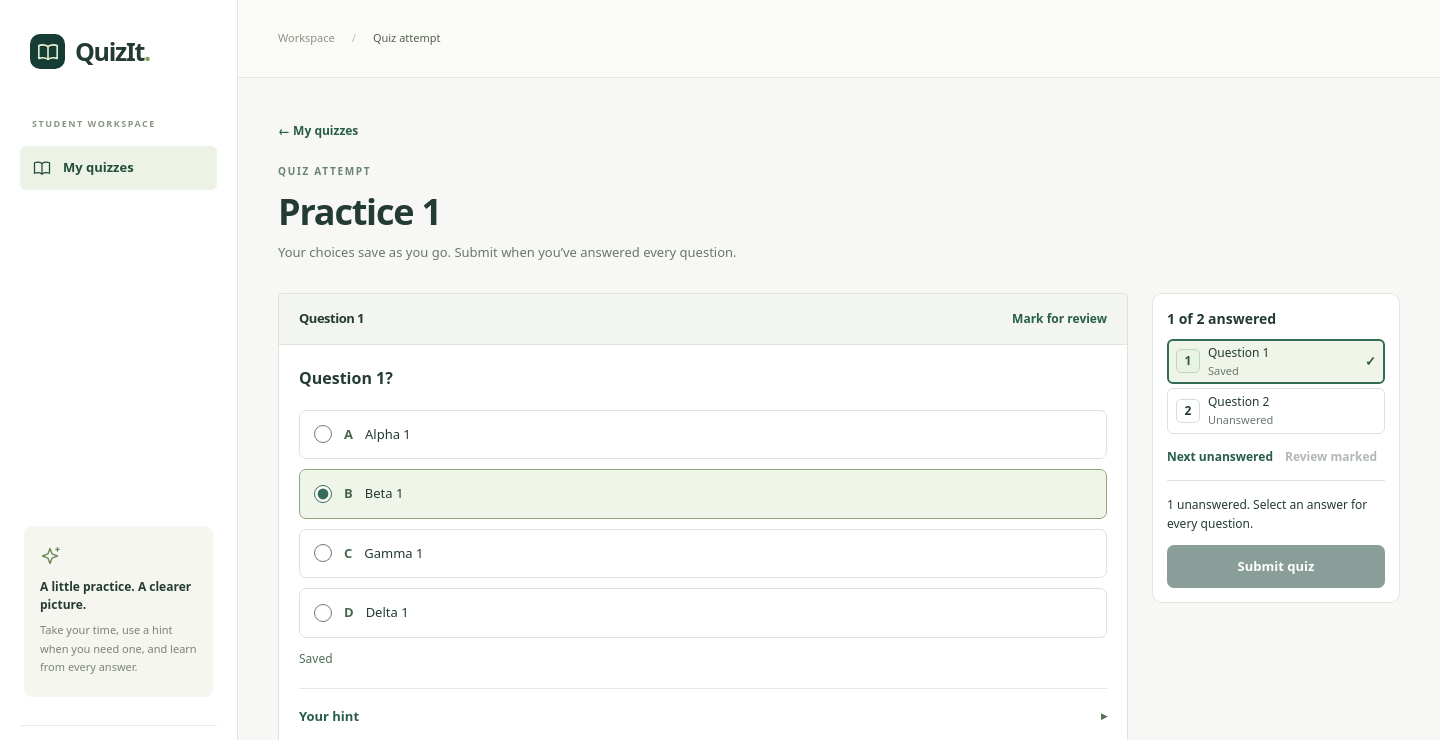
it: student session and SSE › reads only the scoped target on SSE and recovers on reconnect, focus and online
Expected: the text "Question 1?" is shown, x1=299 y1=366 x2=393 y2=388
Click the button "Your hint ▸" at (329, 716), box x1=299 y1=703 x2=1107 y2=730
(page scrolled)
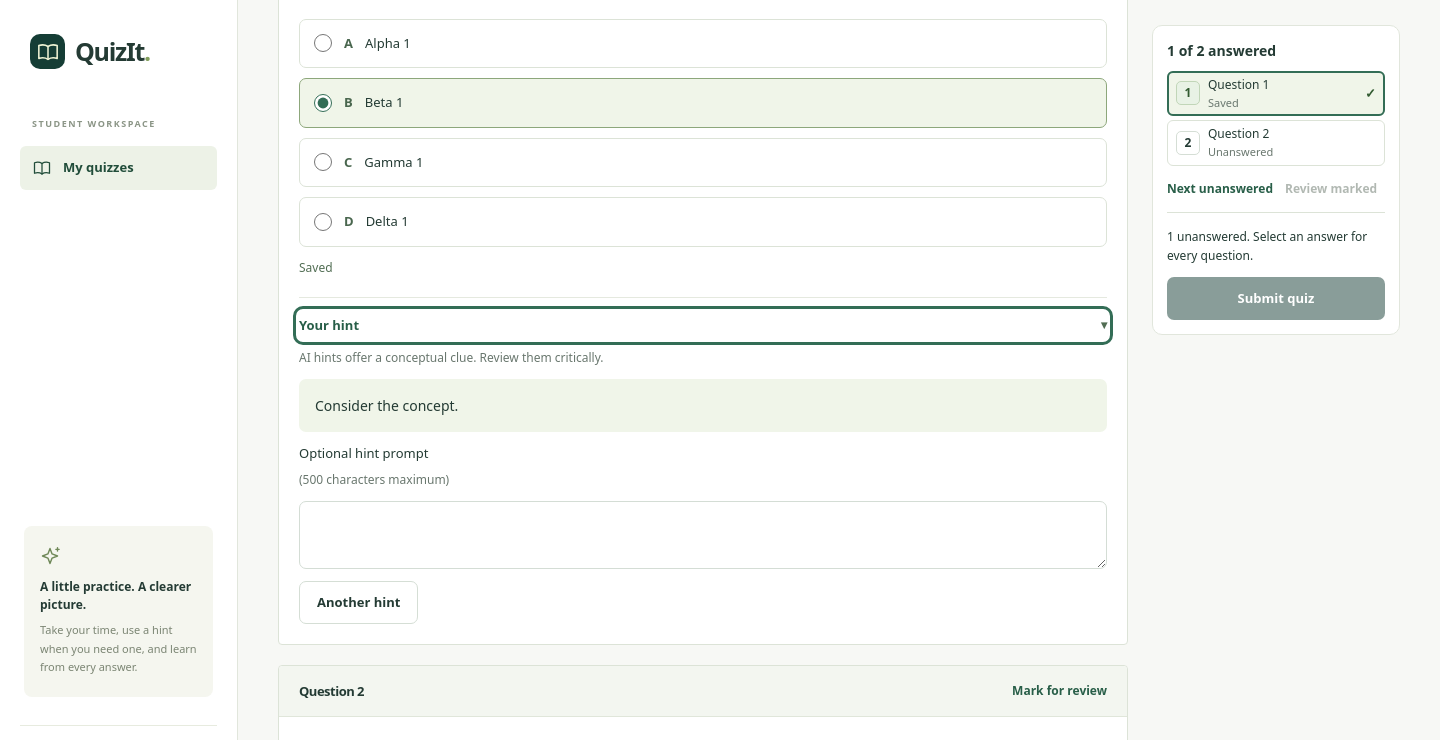
Expected: the text "Consider the concept." is shown, x1=299 y1=379 x2=1107 y2=432
